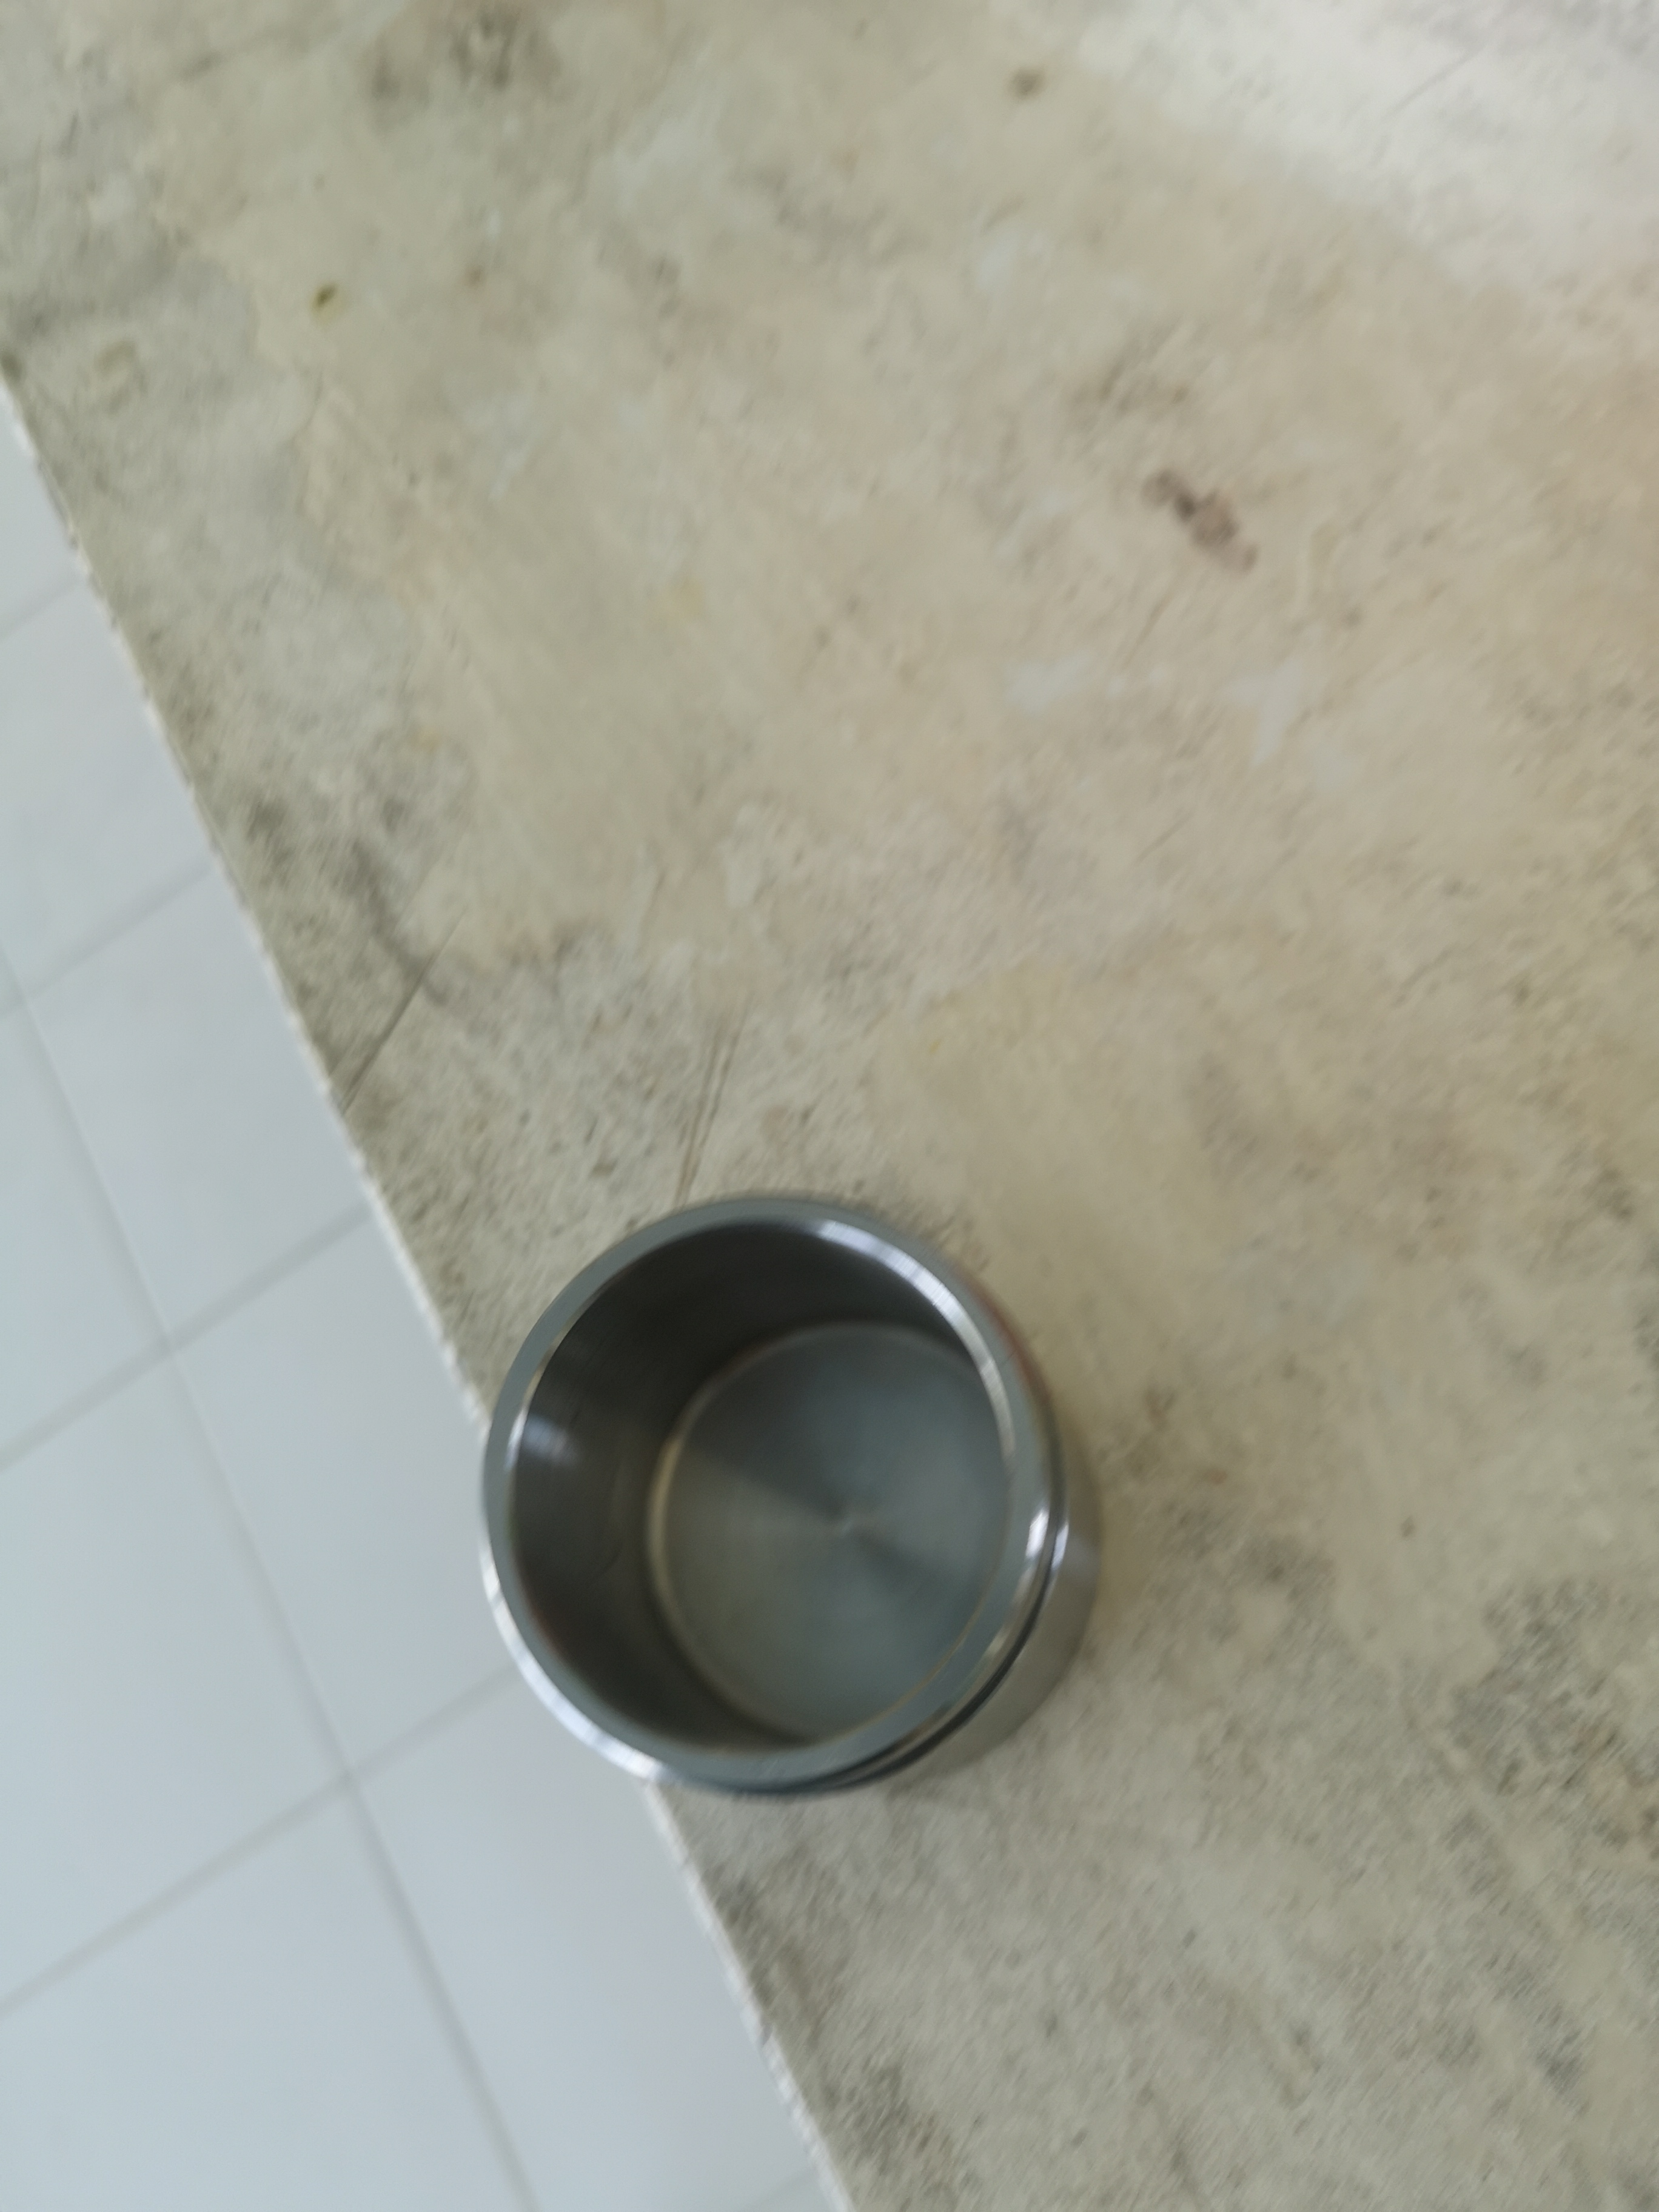ลูกสูบดิสเบรค: (392, 1150, 1150, 1909)
